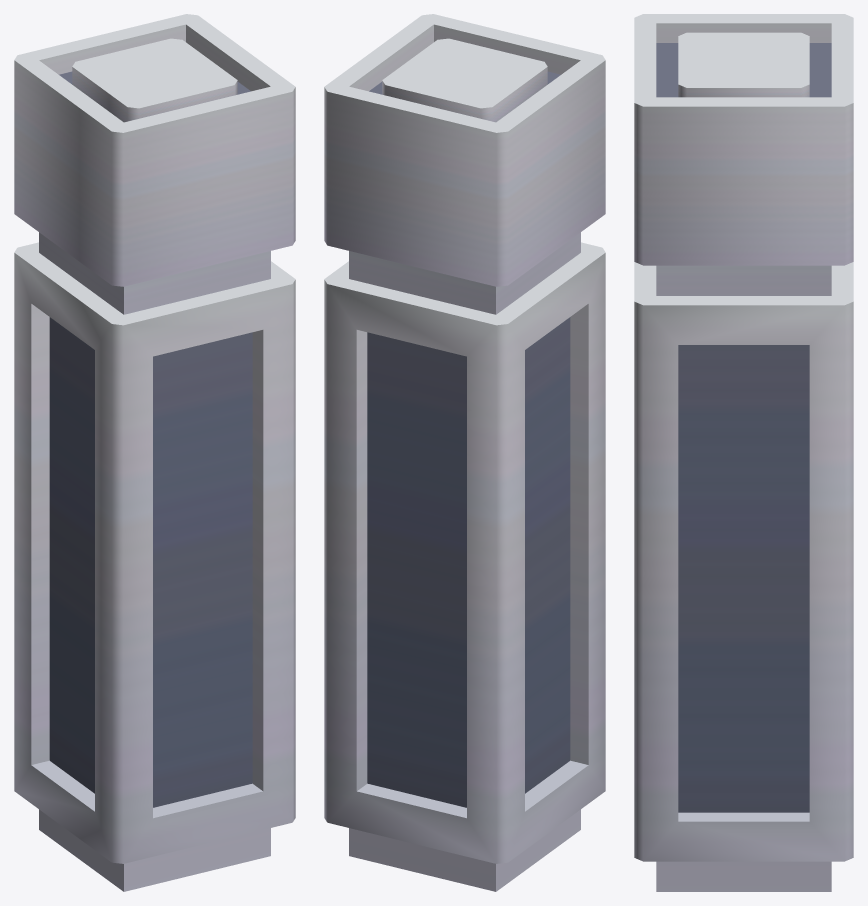
The model's file is low-detail-building-a.glb.
3 renders of one model, left to right at view 1: azimuth 30°, elevation 25°; view 2: azimuth 150°, elevation 25°; view 3: azimuth 270°, elevation 25°, orthographic. The views are drawn at different scales.
Visible parts, largest first — view 1: low-detail-building-a; view 2: low-detail-building-a; view 3: low-detail-building-a.
Boxes of the visible parts, x1,y1,x2,y2 form: low-detail-building-a: [14, 14, 295, 891]; low-detail-building-a: [324, 14, 605, 891]; low-detail-building-a: [634, 14, 853, 891].
Size of the model in its own units: 0.5 by 2 by 0.5.
1 material, 1 textured.
